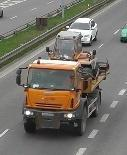car: (66, 17, 98, 45)
truck: (15, 31, 111, 136)
